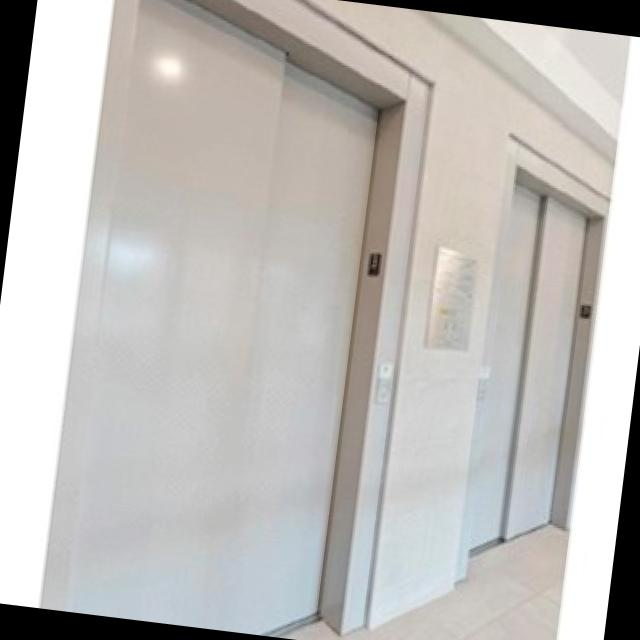elevator: (46, 0, 635, 640)
